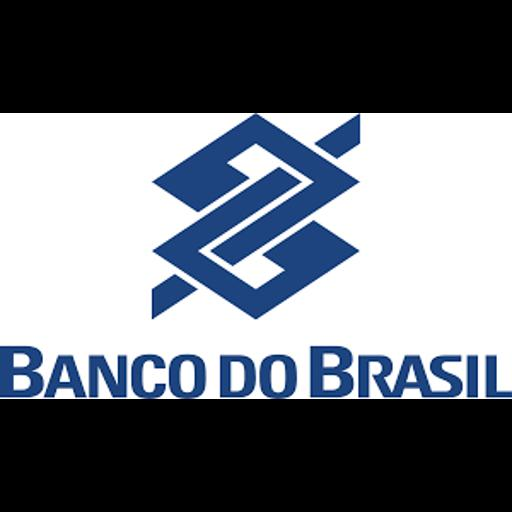Banco do Brasil S-A: (0, 113, 512, 399)
